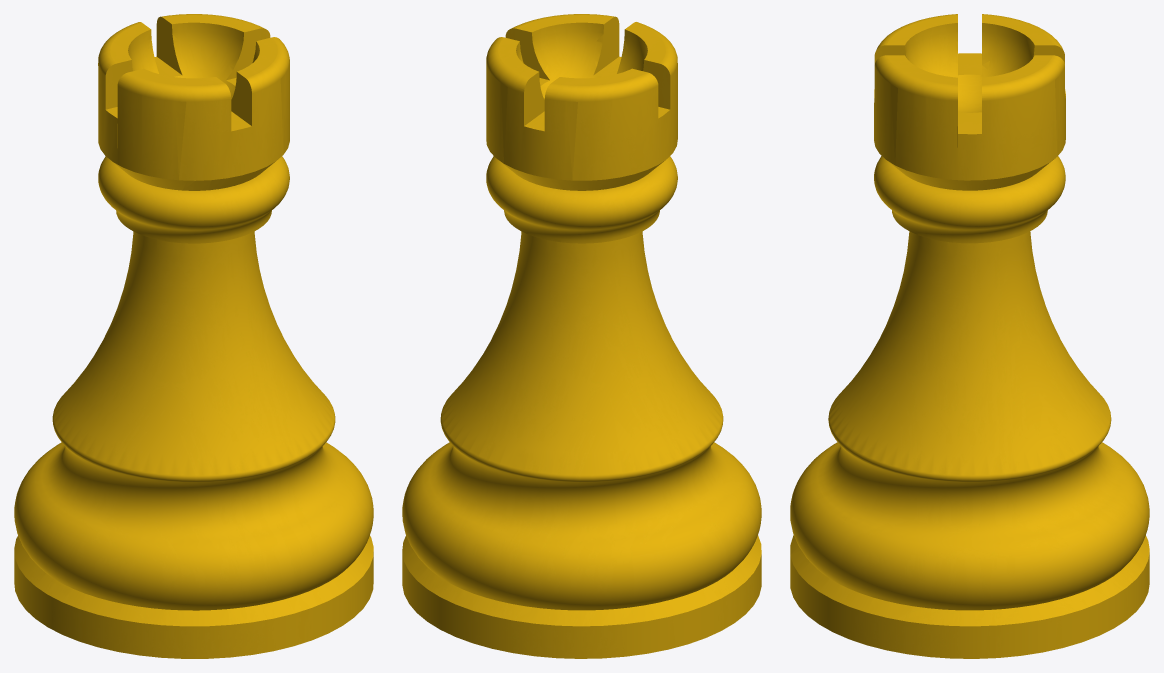
The model's file is Gold-Rook.glb.
3 renders of one model, left to right at view 1: azimuth 30°, elevation 25°; view 2: azimuth 150°, elevation 25°; view 3: azimuth 270°, elevation 25°, orthographic.
Visible parts, largest first — view 1: Mesh_0; view 2: Mesh_0; view 3: Mesh_0.
Part boxes in pixels (left/top/right/bottom): Mesh_0: left=14, top=14, right=373, bottom=658; Mesh_0: left=402, top=14, right=761, bottom=658; Mesh_0: left=790, top=14, right=1149, bottom=658.
Bounding box in the file's own units: 36.72 × 60 × 36.71.
1 material, 1 textured.
